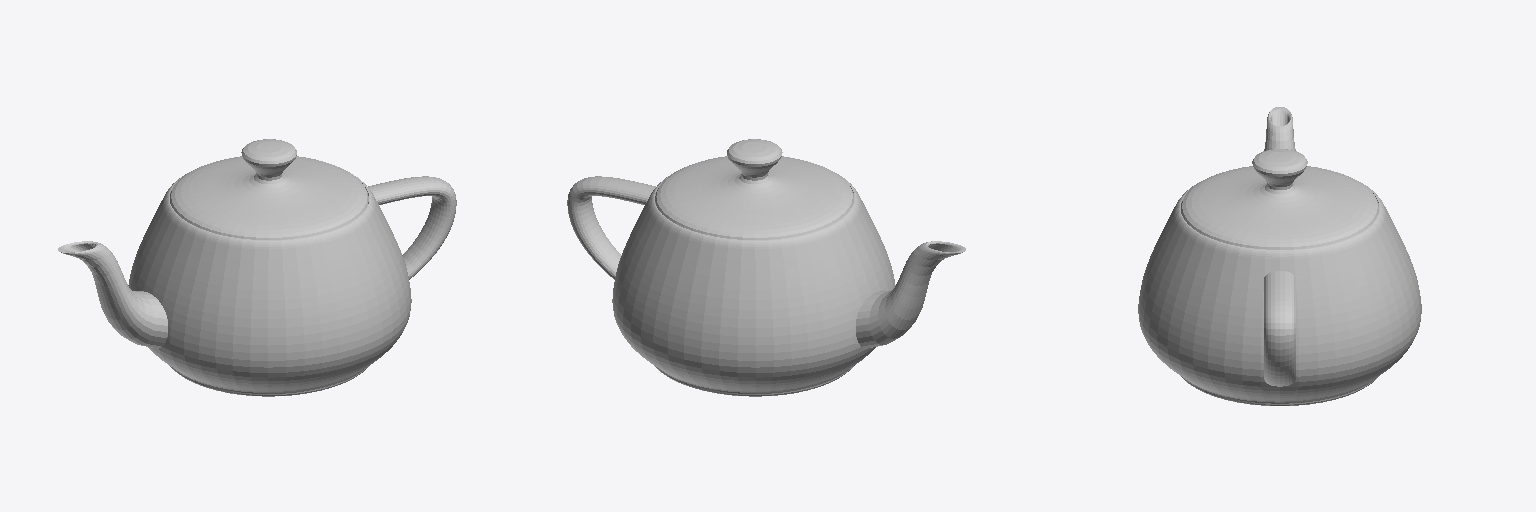
Rendered from teapot.obj.
3 views of the same model, side by side, from view 1: azimuth 30°, elevation 25°; view 2: azimuth 150°, elevation 25°; view 3: azimuth 270°, elevation 25° (orthographic).
Visible parts, largest first — view 1: teapot; view 2: teapot; view 3: teapot.
Part boxes in pixels (left/top/right/bottom): teapot: left=58, top=139, right=456, bottom=396; teapot: left=567, top=139, right=965, bottom=396; teapot: left=1138, top=107, right=1421, bottom=405.
Size of the model in its own units: 1.81 by 0.9284 by 1.13.